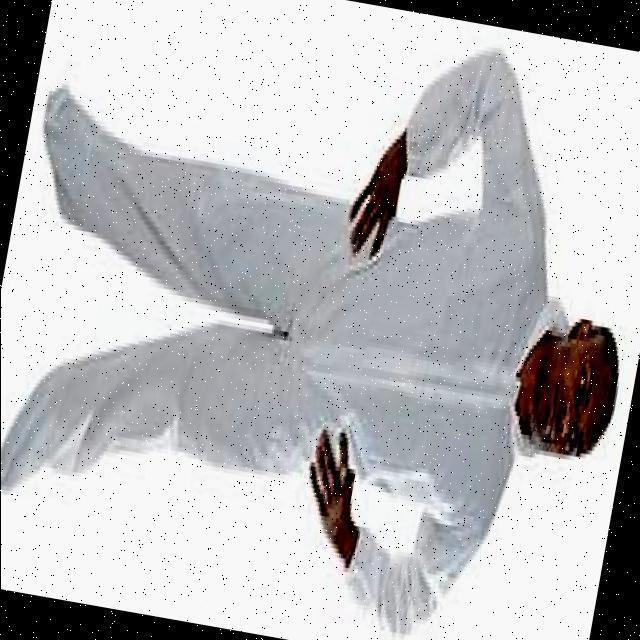no_apron: (352, 137, 419, 276), (304, 419, 366, 557)
no_gloves: (577, 313, 635, 448)
no_hairnet: (526, 347, 572, 454)
